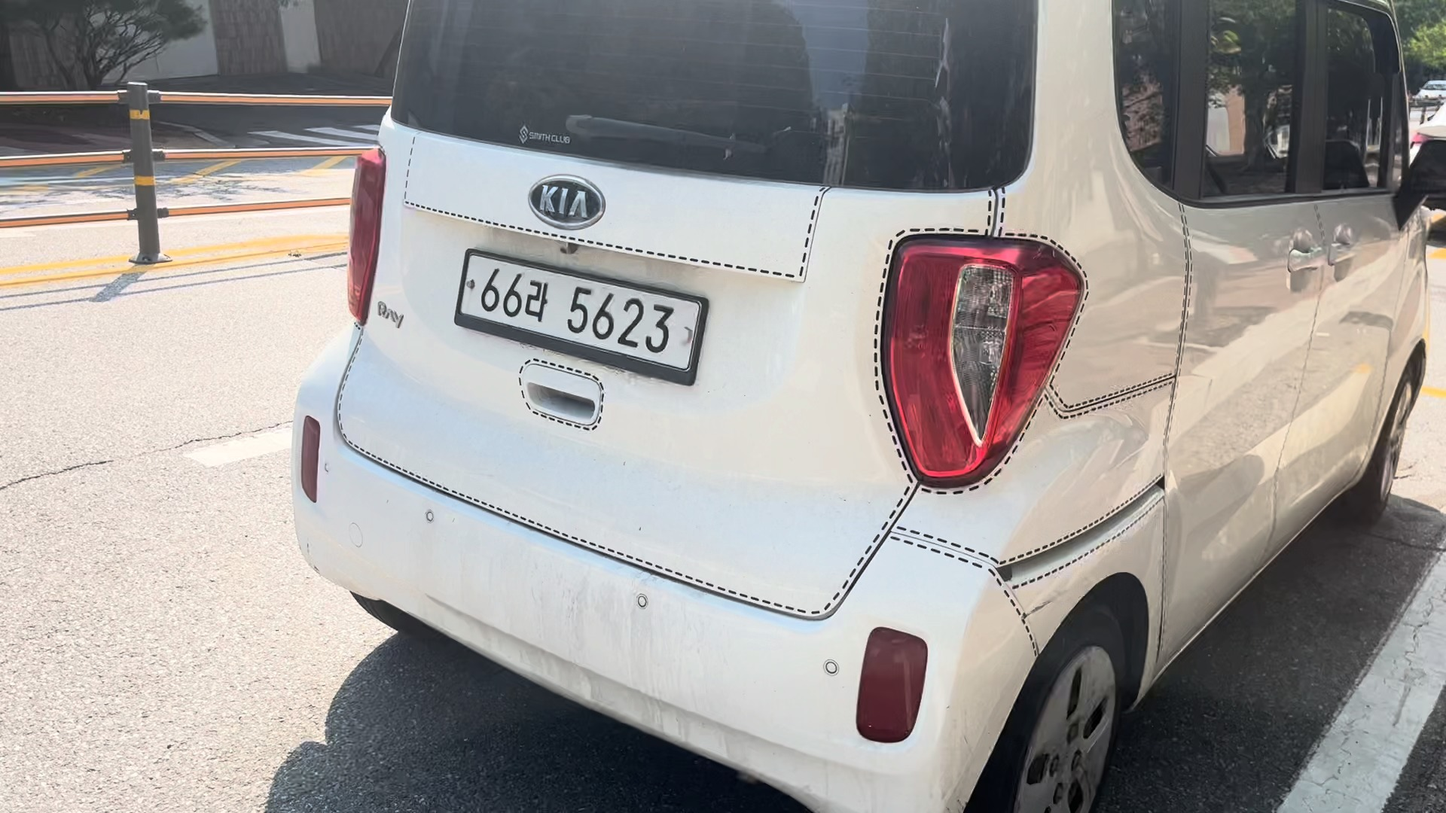car_emblem: (529, 175, 605, 229)
license_plate: (455, 250, 706, 384)
tail_light: (885, 239, 1082, 486), (856, 628, 927, 742), (348, 148, 385, 324), (300, 416, 320, 502), (1411, 132, 1430, 145)
